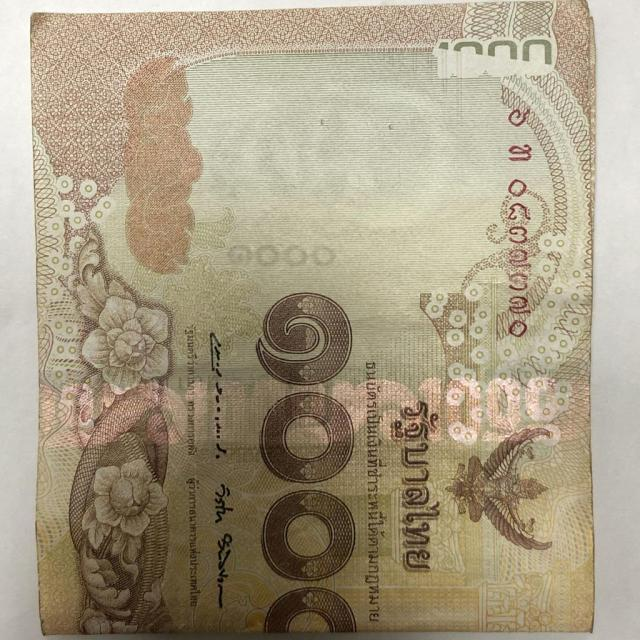THAI1000: (31, 0, 594, 634)
